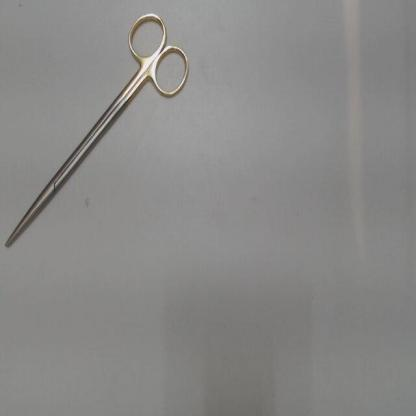7 Metzenbaum Scissors: (6, 10, 192, 248)
